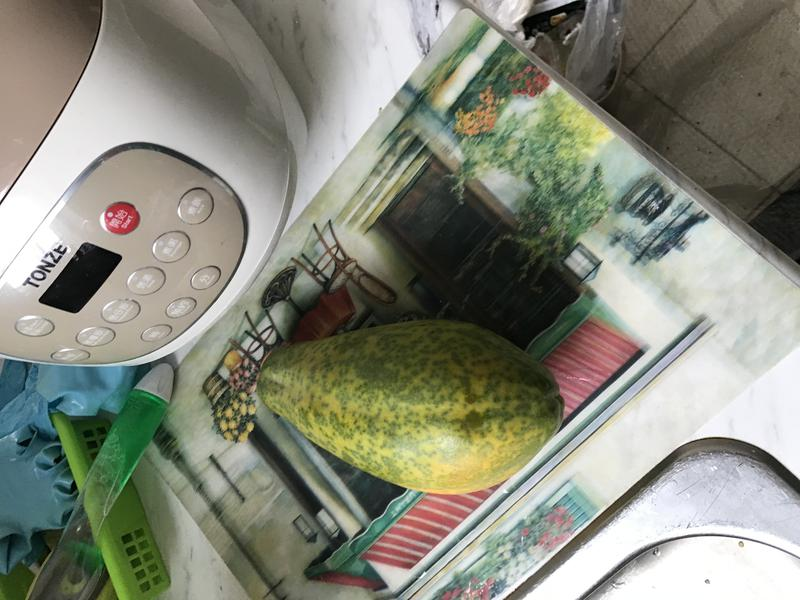papaya: (246, 310, 572, 502)
